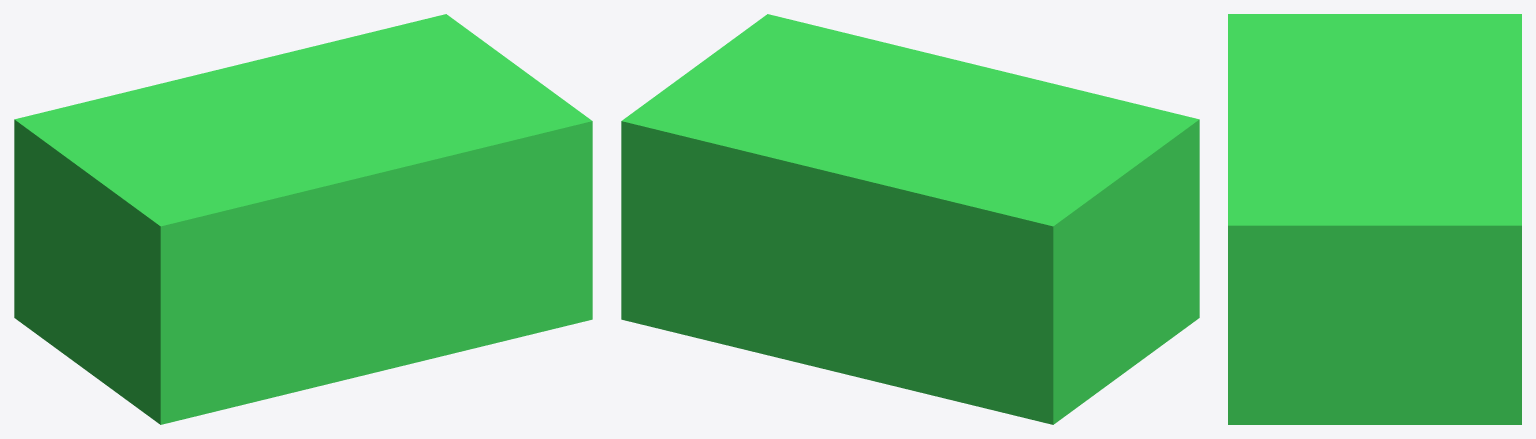
File: EnterIDCode.fbx
The picture shows the model from 3 angles, left to right: view 1: azimuth 30°, elevation 25°; view 2: azimuth 150°, elevation 25°; view 3: azimuth 270°, elevation 25°; orthographic projection.
Visible parts, largest first — view 1: Cube; view 2: Cube; view 3: Cube.
Part boxes in pixels (x1,y1,x2,y2): Cube: [14, 14, 592, 424]; Cube: [621, 14, 1199, 424]; Cube: [1228, 14, 1521, 424].
Bounding box in the file's own units: 63.85 × 28.04 × 37.45.
